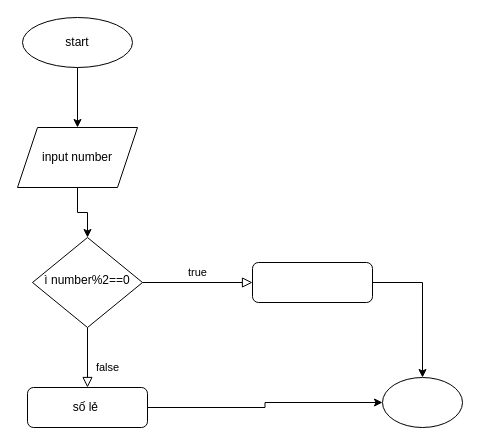
The diagram is 480 pixels wide and 445 high, and some of its shapes have lost their labels. The centre of each missing label's shape, as x and y in pixels:
"end" goes at (x=422, y=402).
"số chẵn" goes at (x=312, y=282).
